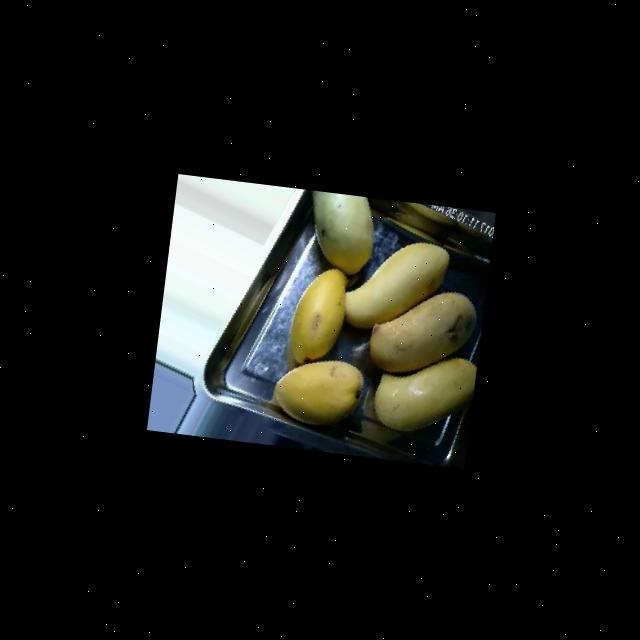Mango: (341, 232, 452, 336), (366, 280, 480, 380), (369, 346, 476, 438), (268, 351, 366, 428), (286, 262, 350, 366), (302, 189, 378, 276)
